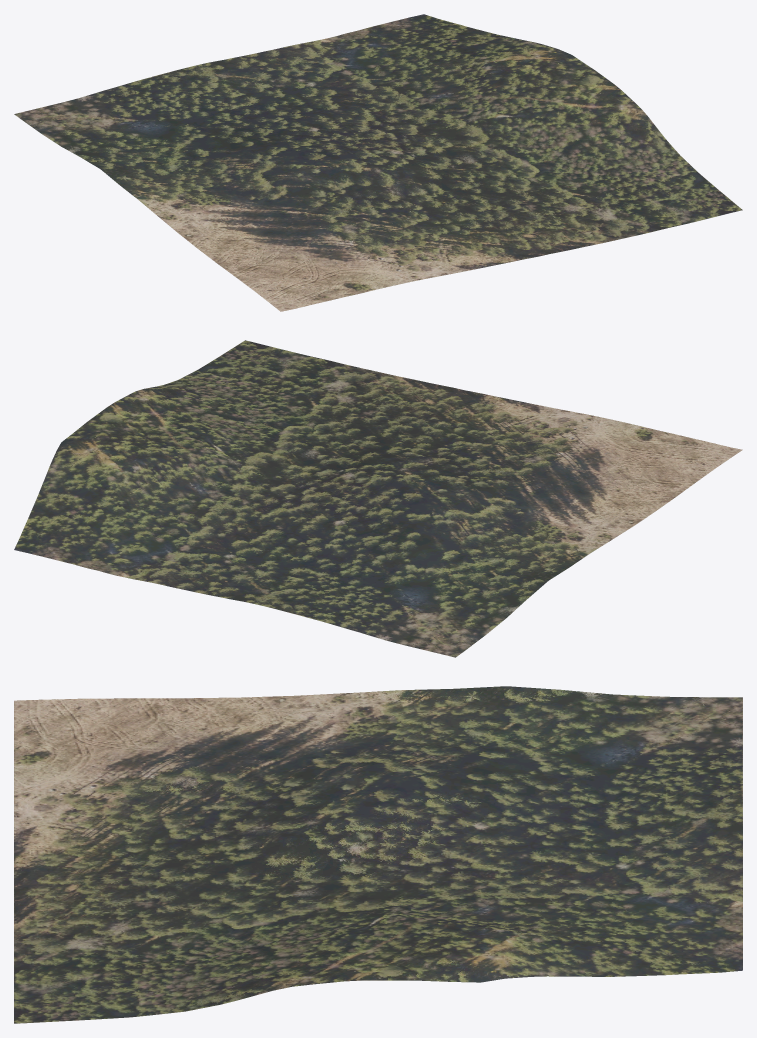
The model's file is CM_Terrain_24491073_6822046.fbx.
3 views of the same model, one above another, from view 1: azimuth 30°, elevation 25°; view 2: azimuth 150°, elevation 25°; view 3: azimuth 270°, elevation 25° (orthographic). The views are drawn at different scales.
Parts seen in each view (by area): view 1: CM_Terrain_24491073_6822046_LOD0; view 2: CM_Terrain_24491073_6822046_LOD0; view 3: CM_Terrain_24491073_6822046_LOD0.
Boxes of the visible parts, left/top/right/bottom form: CM_Terrain_24491073_6822046_LOD0: left=14, top=14, right=742, bottom=311; CM_Terrain_24491073_6822046_LOD0: left=14, top=340, right=742, bottom=657; CM_Terrain_24491073_6822046_LOD0: left=14, top=686, right=742, bottom=1023.
Size of what is drawn, in the model's own units: 205 by 14.68 by 205.
